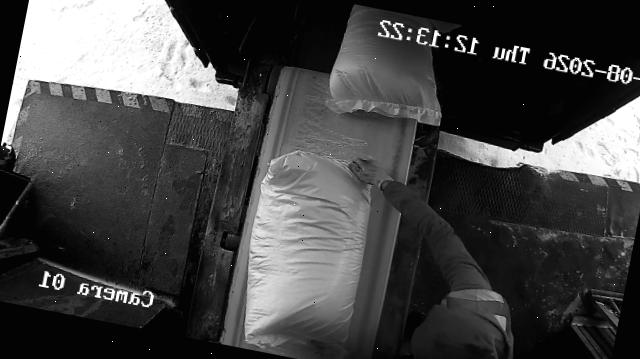bag: (230, 145, 380, 359), (324, 2, 459, 132)
